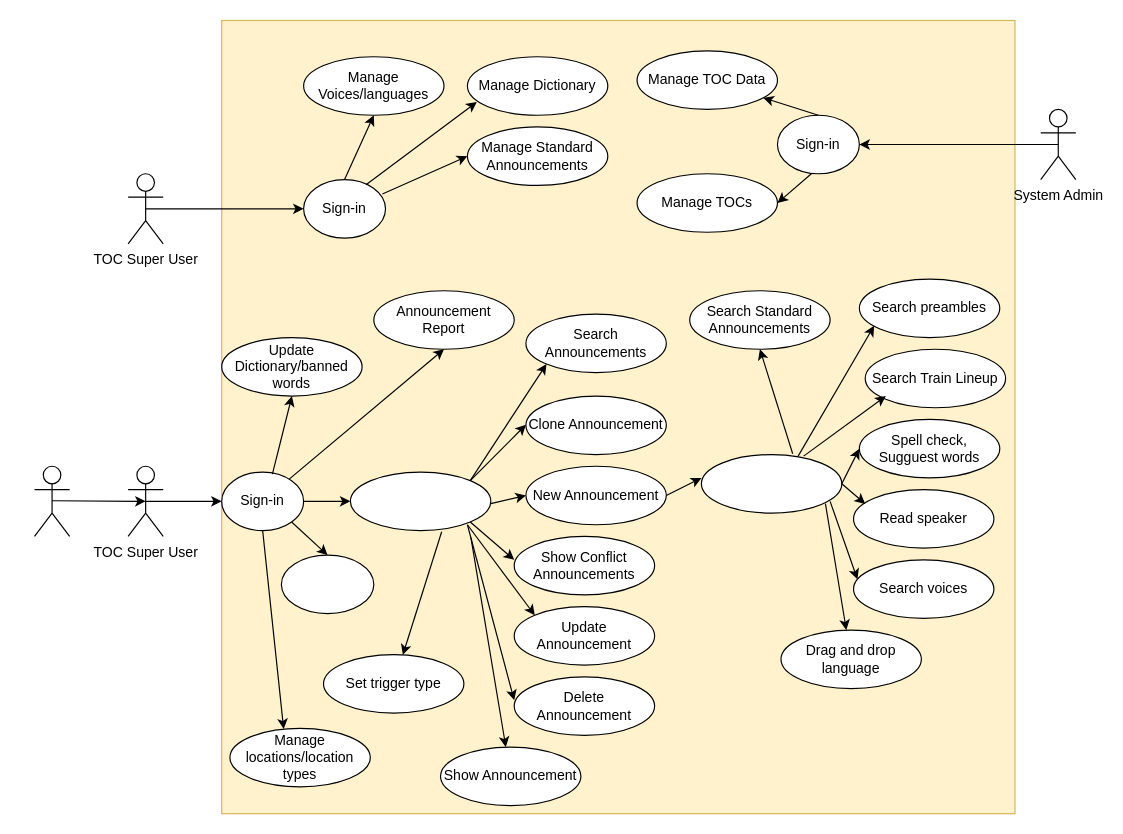
The diagram is 1123 pixels wide and 834 high, and some of its shapes have lost their labels. Here are the shapes that lost their labels. From the top down, the box of each, then its label:
(33, 465, 70, 536): TOC User
(349, 471, 491, 531): Manage Announcements
(700, 453, 842, 513): Add languages
(280, 554, 374, 614): Notifications
